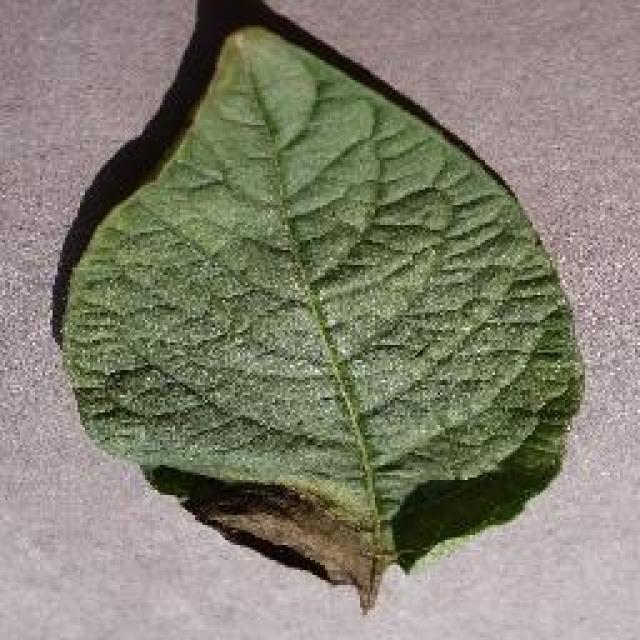late_blight: (50, 5, 588, 610)
